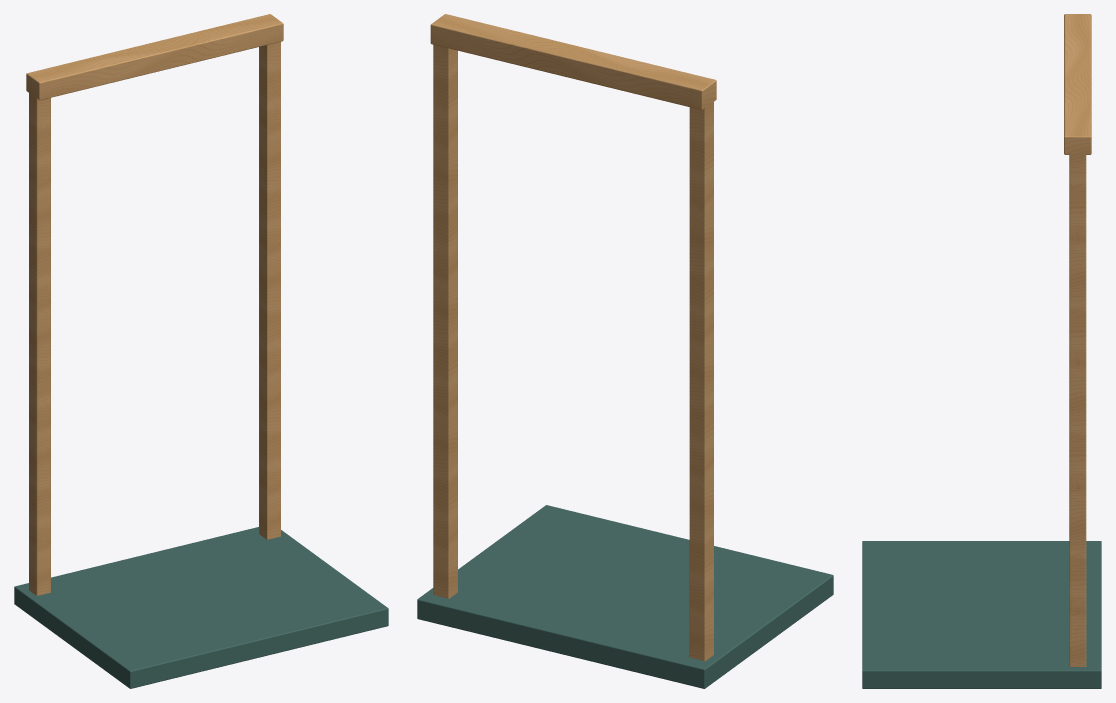
Rendered from liftBase.glb.
The picture shows the model from 3 angles, left to right: view 1: azimuth 30°, elevation 25°; view 2: azimuth 150°, elevation 25°; view 3: azimuth 270°, elevation 25°; orthographic projection. The views are drawn at different scales.
Visible parts, largest first — view 1: liftBase; view 2: liftBase; view 3: liftBase.
Boxes of the visible parts, left/top/right/bottom form: liftBase: left=14, top=14, right=388, bottom=688; liftBase: left=417, top=14, right=833, bottom=688; liftBase: left=862, top=14, right=1101, bottom=688.
Bounding box in the file's own units: 0.09 × 0.177 × 0.07.
Materials: 2 (1 with a texture image).
